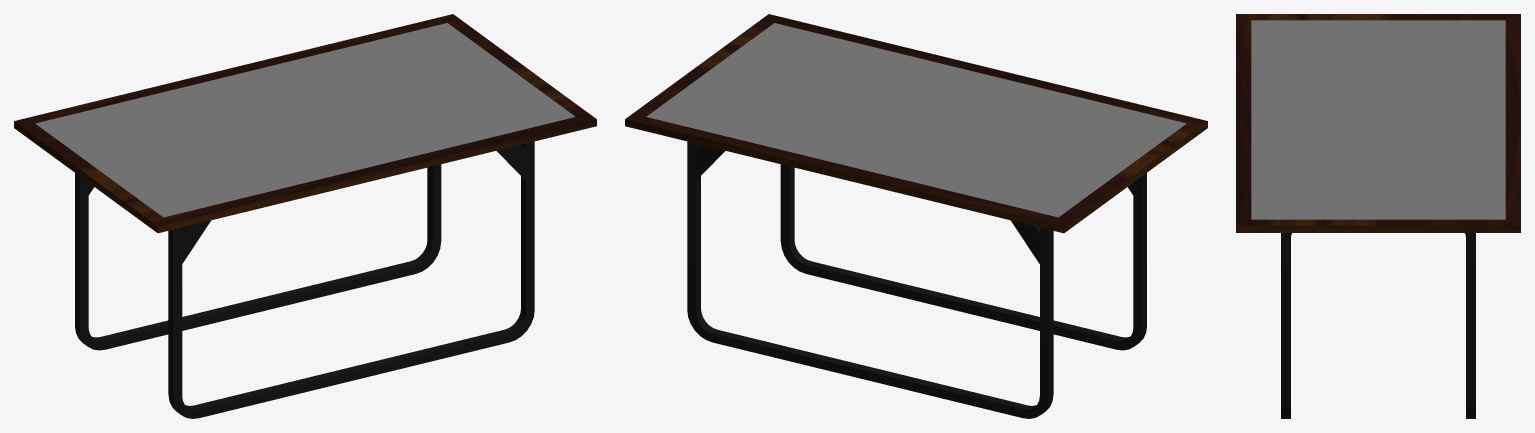
File: Meja3.fbx
3 renders of one model, left to right at view 1: azimuth 30°, elevation 25°; view 2: azimuth 150°, elevation 25°; view 3: azimuth 270°, elevation 25°, orthographic.
Parts seen in each view (by area): view 1: Cube.011; view 2: Cube.011; view 3: Cube.011.
Boxes of the visible parts, x1=… form: Cube.011: x1=14, y1=14, x2=596, y2=418; Cube.011: x1=625, y1=14, x2=1207, y2=418; Cube.011: x1=1236, y1=14, x2=1520, y2=418.
Size of the model in its own units: 167 by 81.29 by 94.63.
3 materials, 1 textured.
